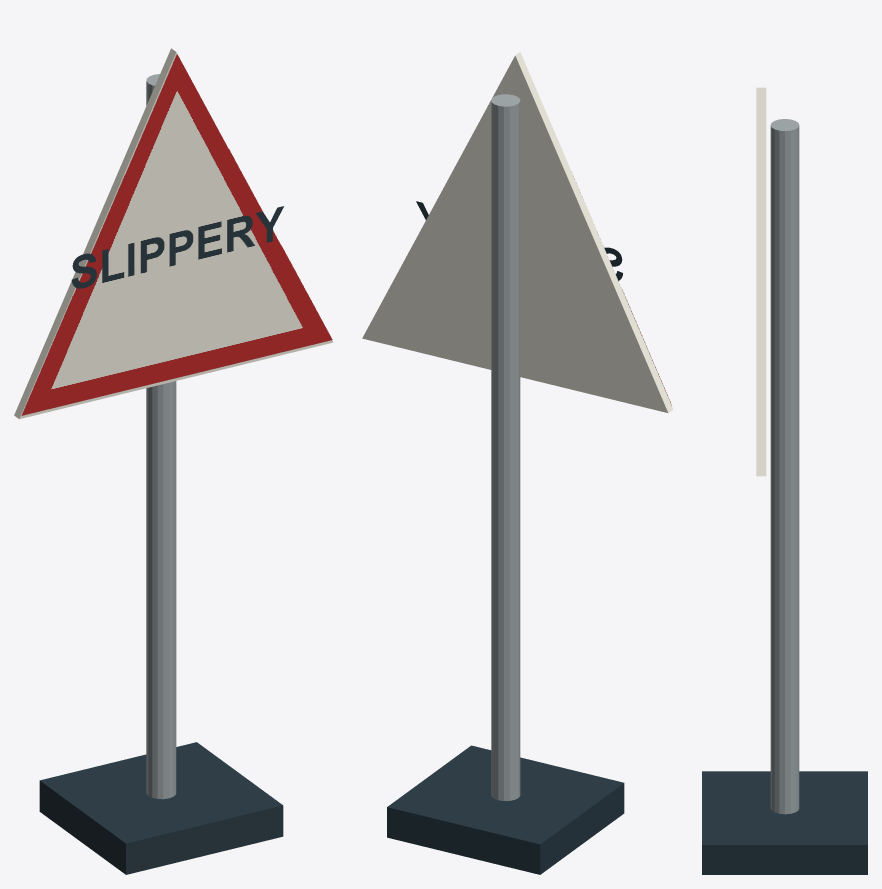
The model's file is scendance-plan-slippery.glb.
The picture shows the model from 3 angles, left to right: view 1: azimuth 30°, elevation 25°; view 2: azimuth 150°, elevation 25°; view 3: azimuth 270°, elevation 25°; orthographic projection. The views are drawn at different scales.
Size of the model in its own units: 0.84 by 2 by 0.4.
4 materials, 1 textured.
